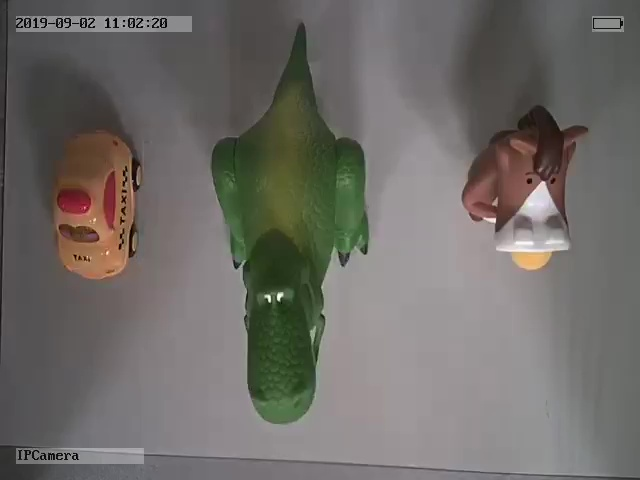car: (50, 125, 145, 281)
horse: (459, 104, 590, 271)
rex: (211, 22, 370, 425)
